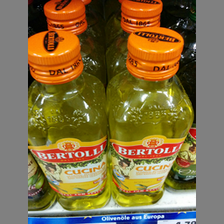oil: (108, 25, 195, 206), (29, 30, 110, 209)
